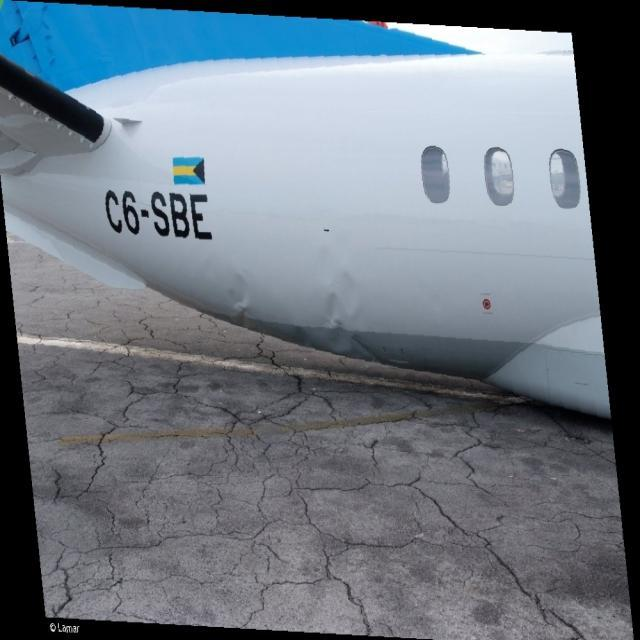dent: (320, 265, 370, 357), (228, 267, 257, 335)
